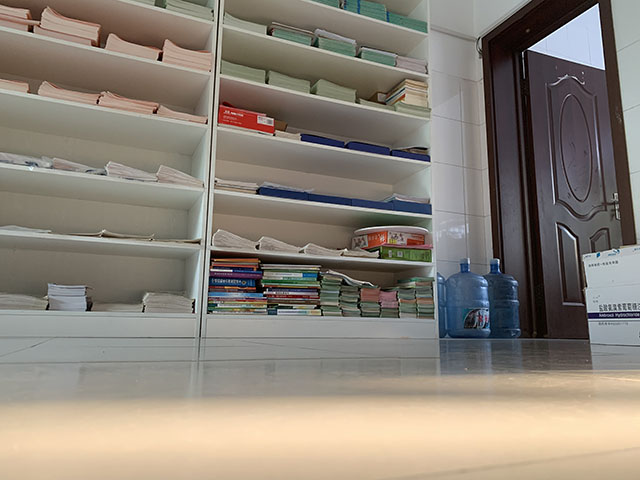cabinet: (1, 1, 441, 340)
